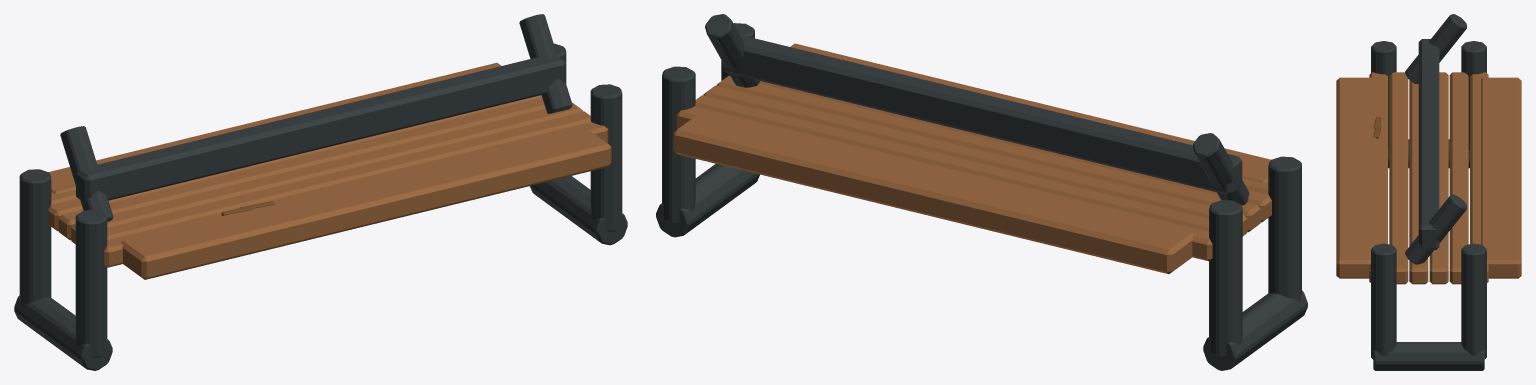
File: runtime.glb
3 renders of one model, left to right at view 1: azimuth 30°, elevation 25°; view 2: azimuth 150°, elevation 25°; view 3: azimuth 270°, elevation 25°, orthographic. The views are drawn at different scales.
Parts seen in each view (by area): view 1: eiffel-historic-bench-v04_nocol; view 2: eiffel-historic-bench-v04_nocol; view 3: eiffel-historic-bench-v04_nocol.
Boxes of the visible parts, box(x1,y1,x2,y2) form: eiffel-historic-bench-v04_nocol: box(14, 14, 627, 370); eiffel-historic-bench-v04_nocol: box(656, 14, 1307, 370); eiffel-historic-bench-v04_nocol: box(1336, 14, 1521, 370).
Size of the model in its own units: 2.46 by 0.8695 by 0.896.
